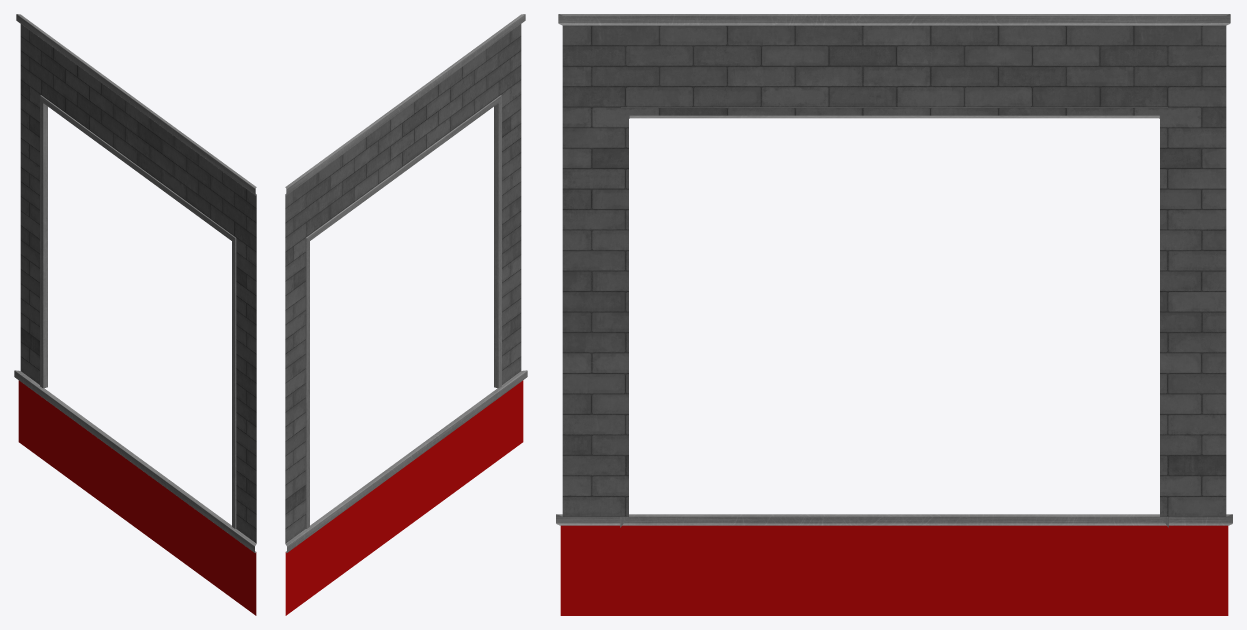
The model's file is SM_Base_150_Door_Wide.fbx.
The picture shows the model from 3 angles, left to right: view 1: azimuth 30°, elevation 25°; view 2: azimuth 150°, elevation 25°; view 3: azimuth 270°, elevation 25°; orthographic projection. The views are drawn at different scales.
Parts seen in each view (by area): view 1: SM_Base_150_Door_Wide_LOD0; view 2: SM_Base_150_Door_Wide_LOD0; view 3: SM_Base_150_Door_Wide_LOD0.
Part boxes in pixels (box(x1,y1,x2,y2)): SM_Base_150_Door_Wide_LOD0: box(14, 14, 256, 615); SM_Base_150_Door_Wide_LOD0: box(285, 14, 527, 615); SM_Base_150_Door_Wide_LOD0: box(556, 14, 1232, 615).
Bounding box in the file's own units: 5.73 × 306 × 300.
